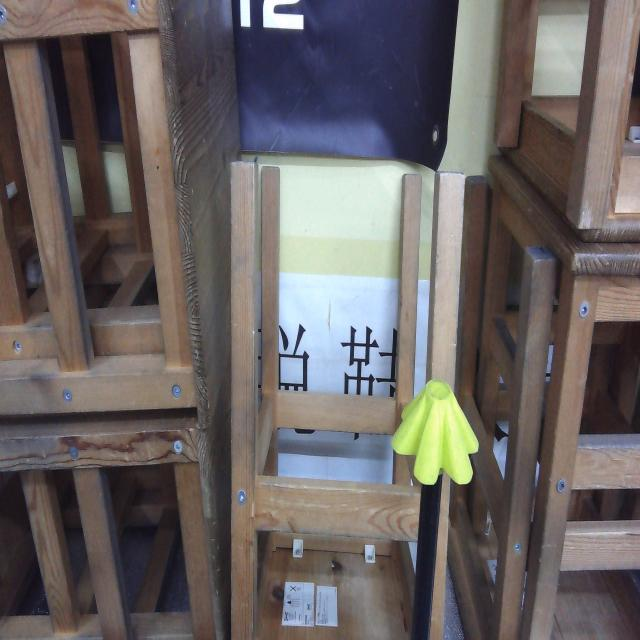Yellow-Stake-Head: (391, 379, 479, 485)
